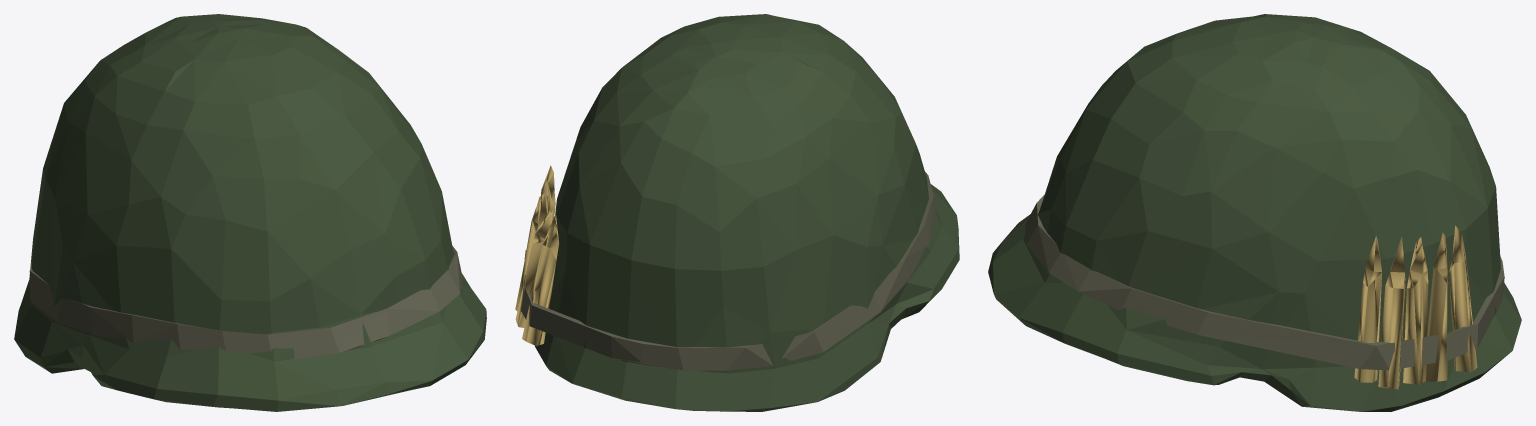
Rendered from m1_rounds.glb.
3 views of the same model, side by side, from view 1: azimuth 30°, elevation 25°; view 2: azimuth 150°, elevation 25°; view 3: azimuth 270°, elevation 25° (orthographic). The views are drawn at different scales.
Parts seen in each view (by area): view 1: helmet_rounds_cover, helmet_rounds_band; view 2: helmet_rounds_cover, helmet_rounds_band, helmet_rounds_rounds; view 3: helmet_rounds_cover, helmet_rounds_band, helmet_rounds_rounds.
Boxes of the visible parts, left/top/right/bottom form: helmet_rounds_cover: left=14, top=14, right=486, bottom=411; helmet_rounds_band: left=29, top=246, right=462, bottom=358; helmet_rounds_cover: left=535, top=14, right=959, bottom=411; helmet_rounds_band: left=521, top=172, right=937, bottom=370; helmet_rounds_rounds: left=515, top=165, right=559, bottom=345; helmet_rounds_cover: left=988, top=14, right=1521, bottom=411; helmet_rounds_band: left=1025, top=195, right=1504, bottom=370; helmet_rounds_rounds: left=1354, top=225, right=1477, bottom=389.
Size of the model in its own units: 0.2289 by 0.1917 by 0.3044.
